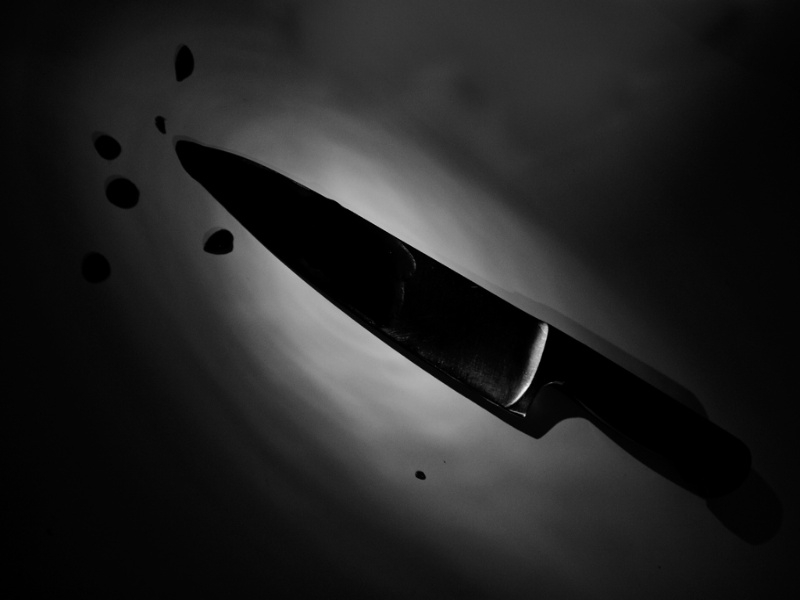knife: (172, 134, 787, 552)
